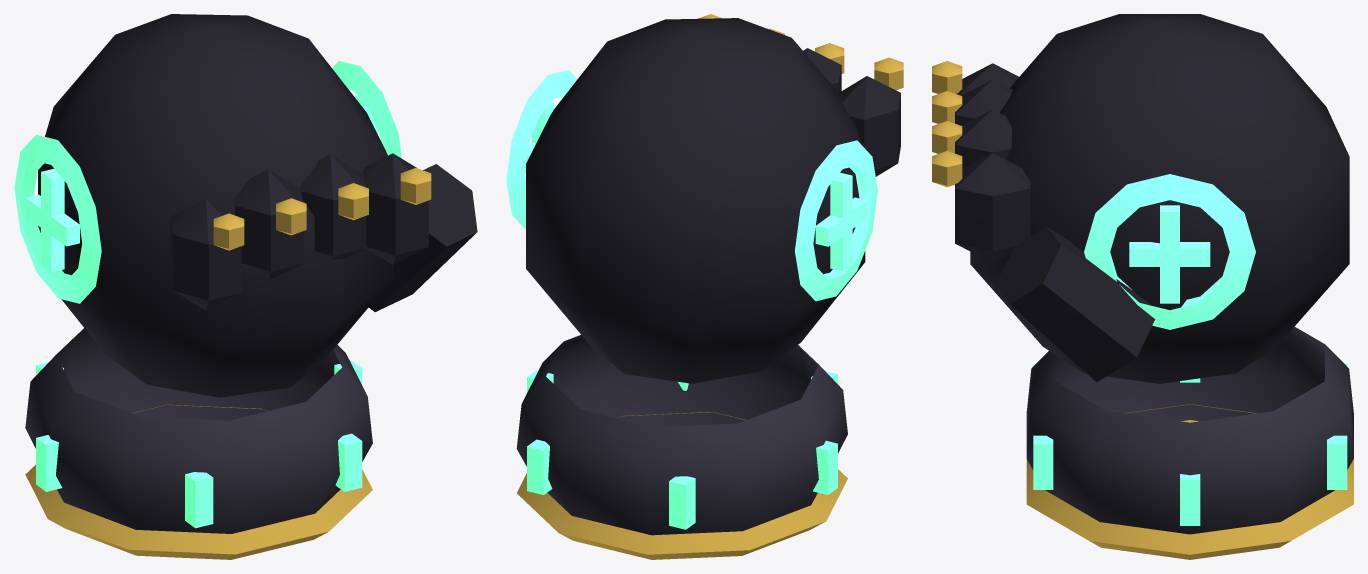
The model's file is seal-gloves-4.glb.
3 views of the same model, side by side, from view 1: azimuth 30°, elevation 25°; view 2: azimuth 150°, elevation 25°; view 3: azimuth 270°, elevation 25° (orthographic). The views are drawn at different scales.
Visible parts, largest first — view 1: seal-gloves-4; view 2: seal-gloves-4; view 3: seal-gloves-4.
Boxes of the visible parts, bbox=[...] form: seal-gloves-4: bbox=[14, 14, 477, 559]; seal-gloves-4: bbox=[506, 14, 903, 559]; seal-gloves-4: bbox=[932, 14, 1353, 559].
Bounding box in the file's own units: 0.0812 × 0.103 × 0.0833.
